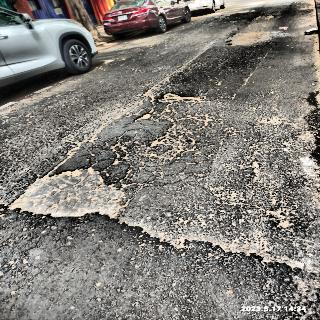pothole: (9, 167, 124, 223)
